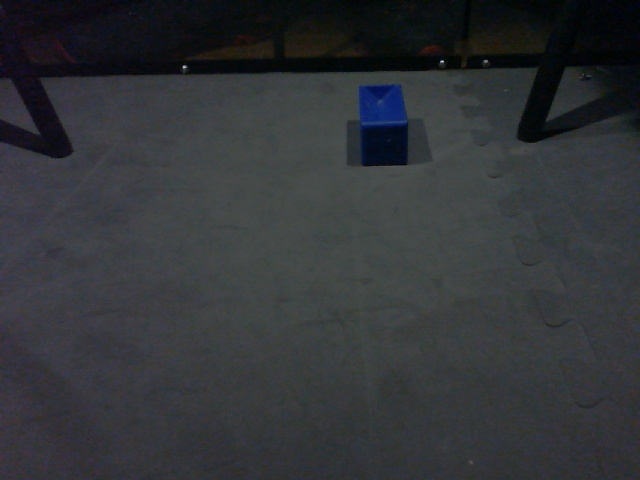BlueSample: (353, 82, 416, 166)
